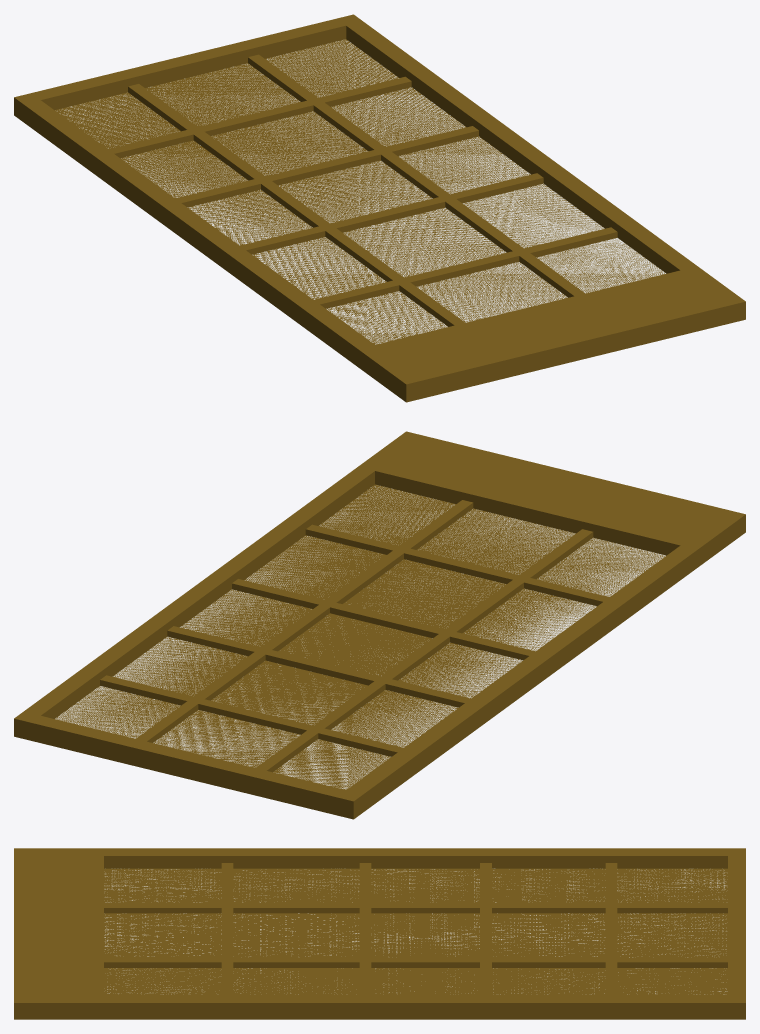
Rendered from syouzi.fbx.
3 renders of one model, top to bottom at view 1: azimuth 30°, elevation 25°; view 2: azimuth 150°, elevation 25°; view 3: azimuth 270°, elevation 25°, orthographic. The views are drawn at different scales.
Visible parts, largest first — view 1: 平面; view 2: 平面; view 3: 平面.
Part boxes in pixels (x1=…): 平面: x1=14, y1=14, x2=745, y2=402; 平面: x1=14, y1=431, x2=745, y2=819; 平面: x1=14, y1=848, x2=745, y2=1019.
Size of the model in its own units: 400 by 20.36 by 800.
1 material, 1 textured.
